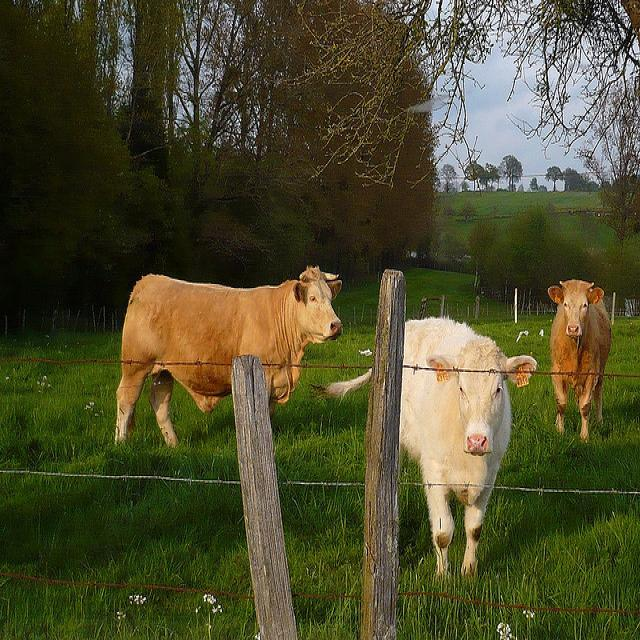cow: (306, 317, 537, 576), (112, 263, 343, 441), (551, 278, 611, 438)
